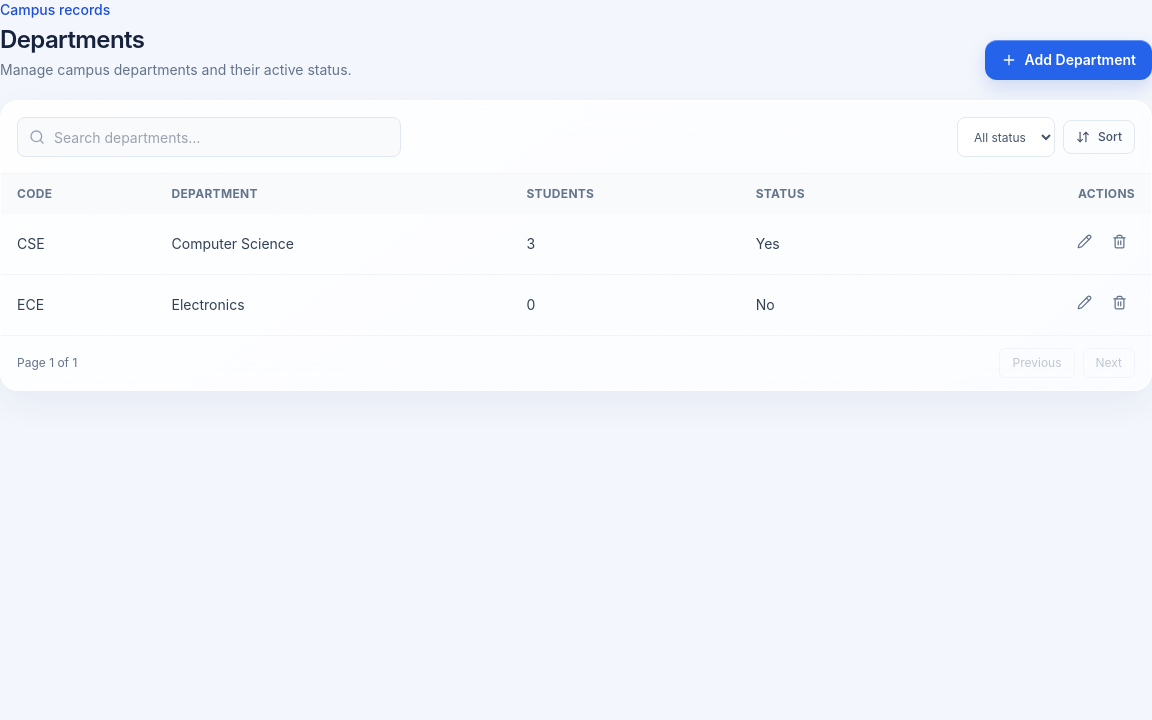
Test case: ModuleManager › opens the create form with the module fields
This screenshot has width=1152, height=720.
Click the button "Add Department" at (1068, 60), box [985,40,1151,80]
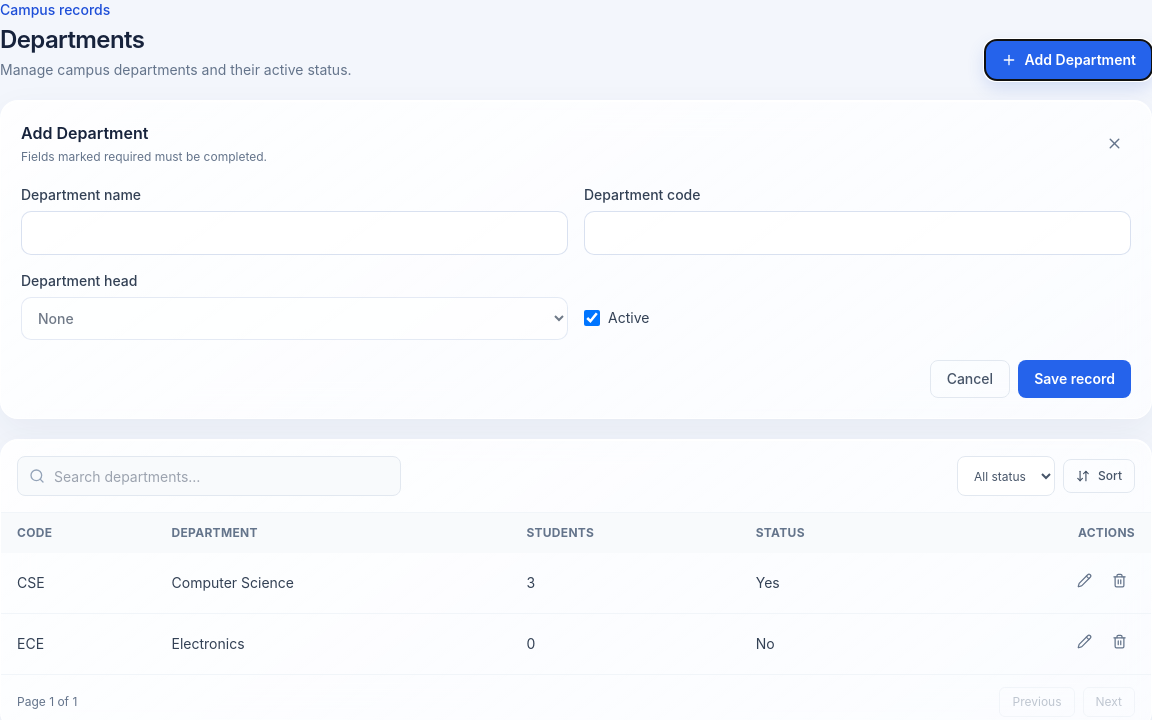
Check: the field labelled "Department name" is shown, box [21,211,568,255]
Check: the field labelled "Department code" is shown, box [584,211,1131,255]
Check: the button "Save record" is shown, box [1018,360,1131,398]
